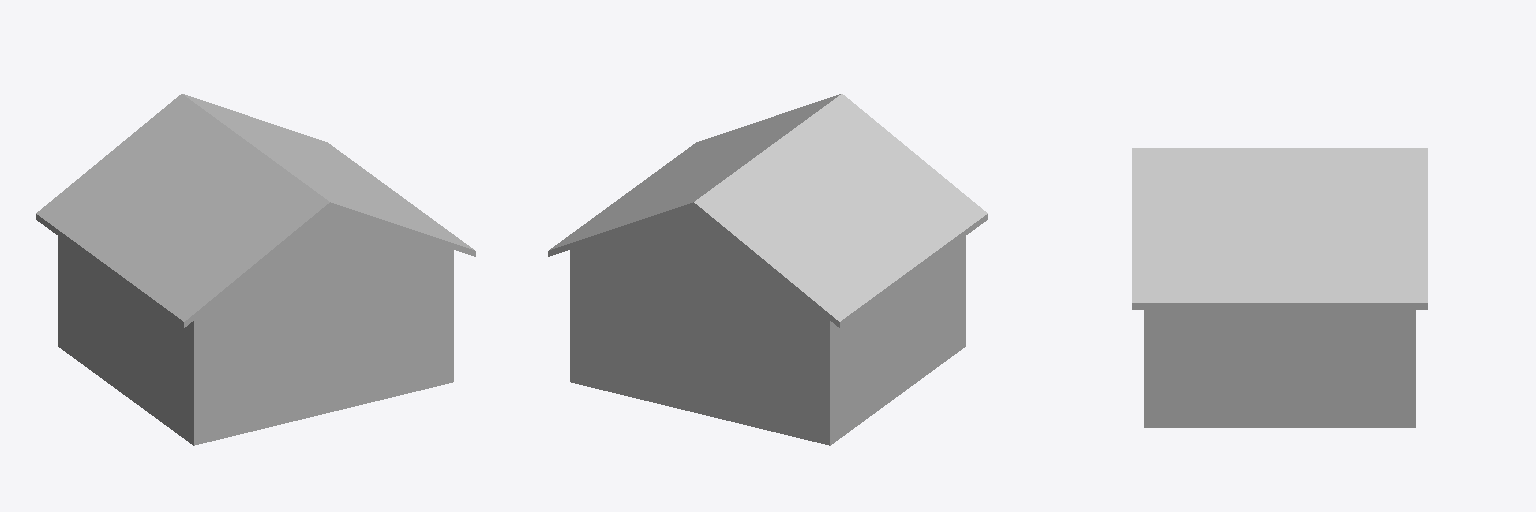
File: Garage.obj
3 renders of one model, left to right at view 1: azimuth 30°, elevation 25°; view 2: azimuth 150°, elevation 25°; view 3: azimuth 270°, elevation 25°, orthographic.
Parts seen in each view (by area): view 1: pPlane6; view 2: pPlane6; view 3: pPlane6.
Boxes of the visible parts, x1=… form: pPlane6: x1=36, y1=94, x2=475, y2=445; pPlane6: x1=548, y1=94, x2=987, y2=445; pPlane6: x1=1132, y1=148, x2=1427, y2=427.
Size of the model in its own units: 8.38 by 5.94 by 7.38.